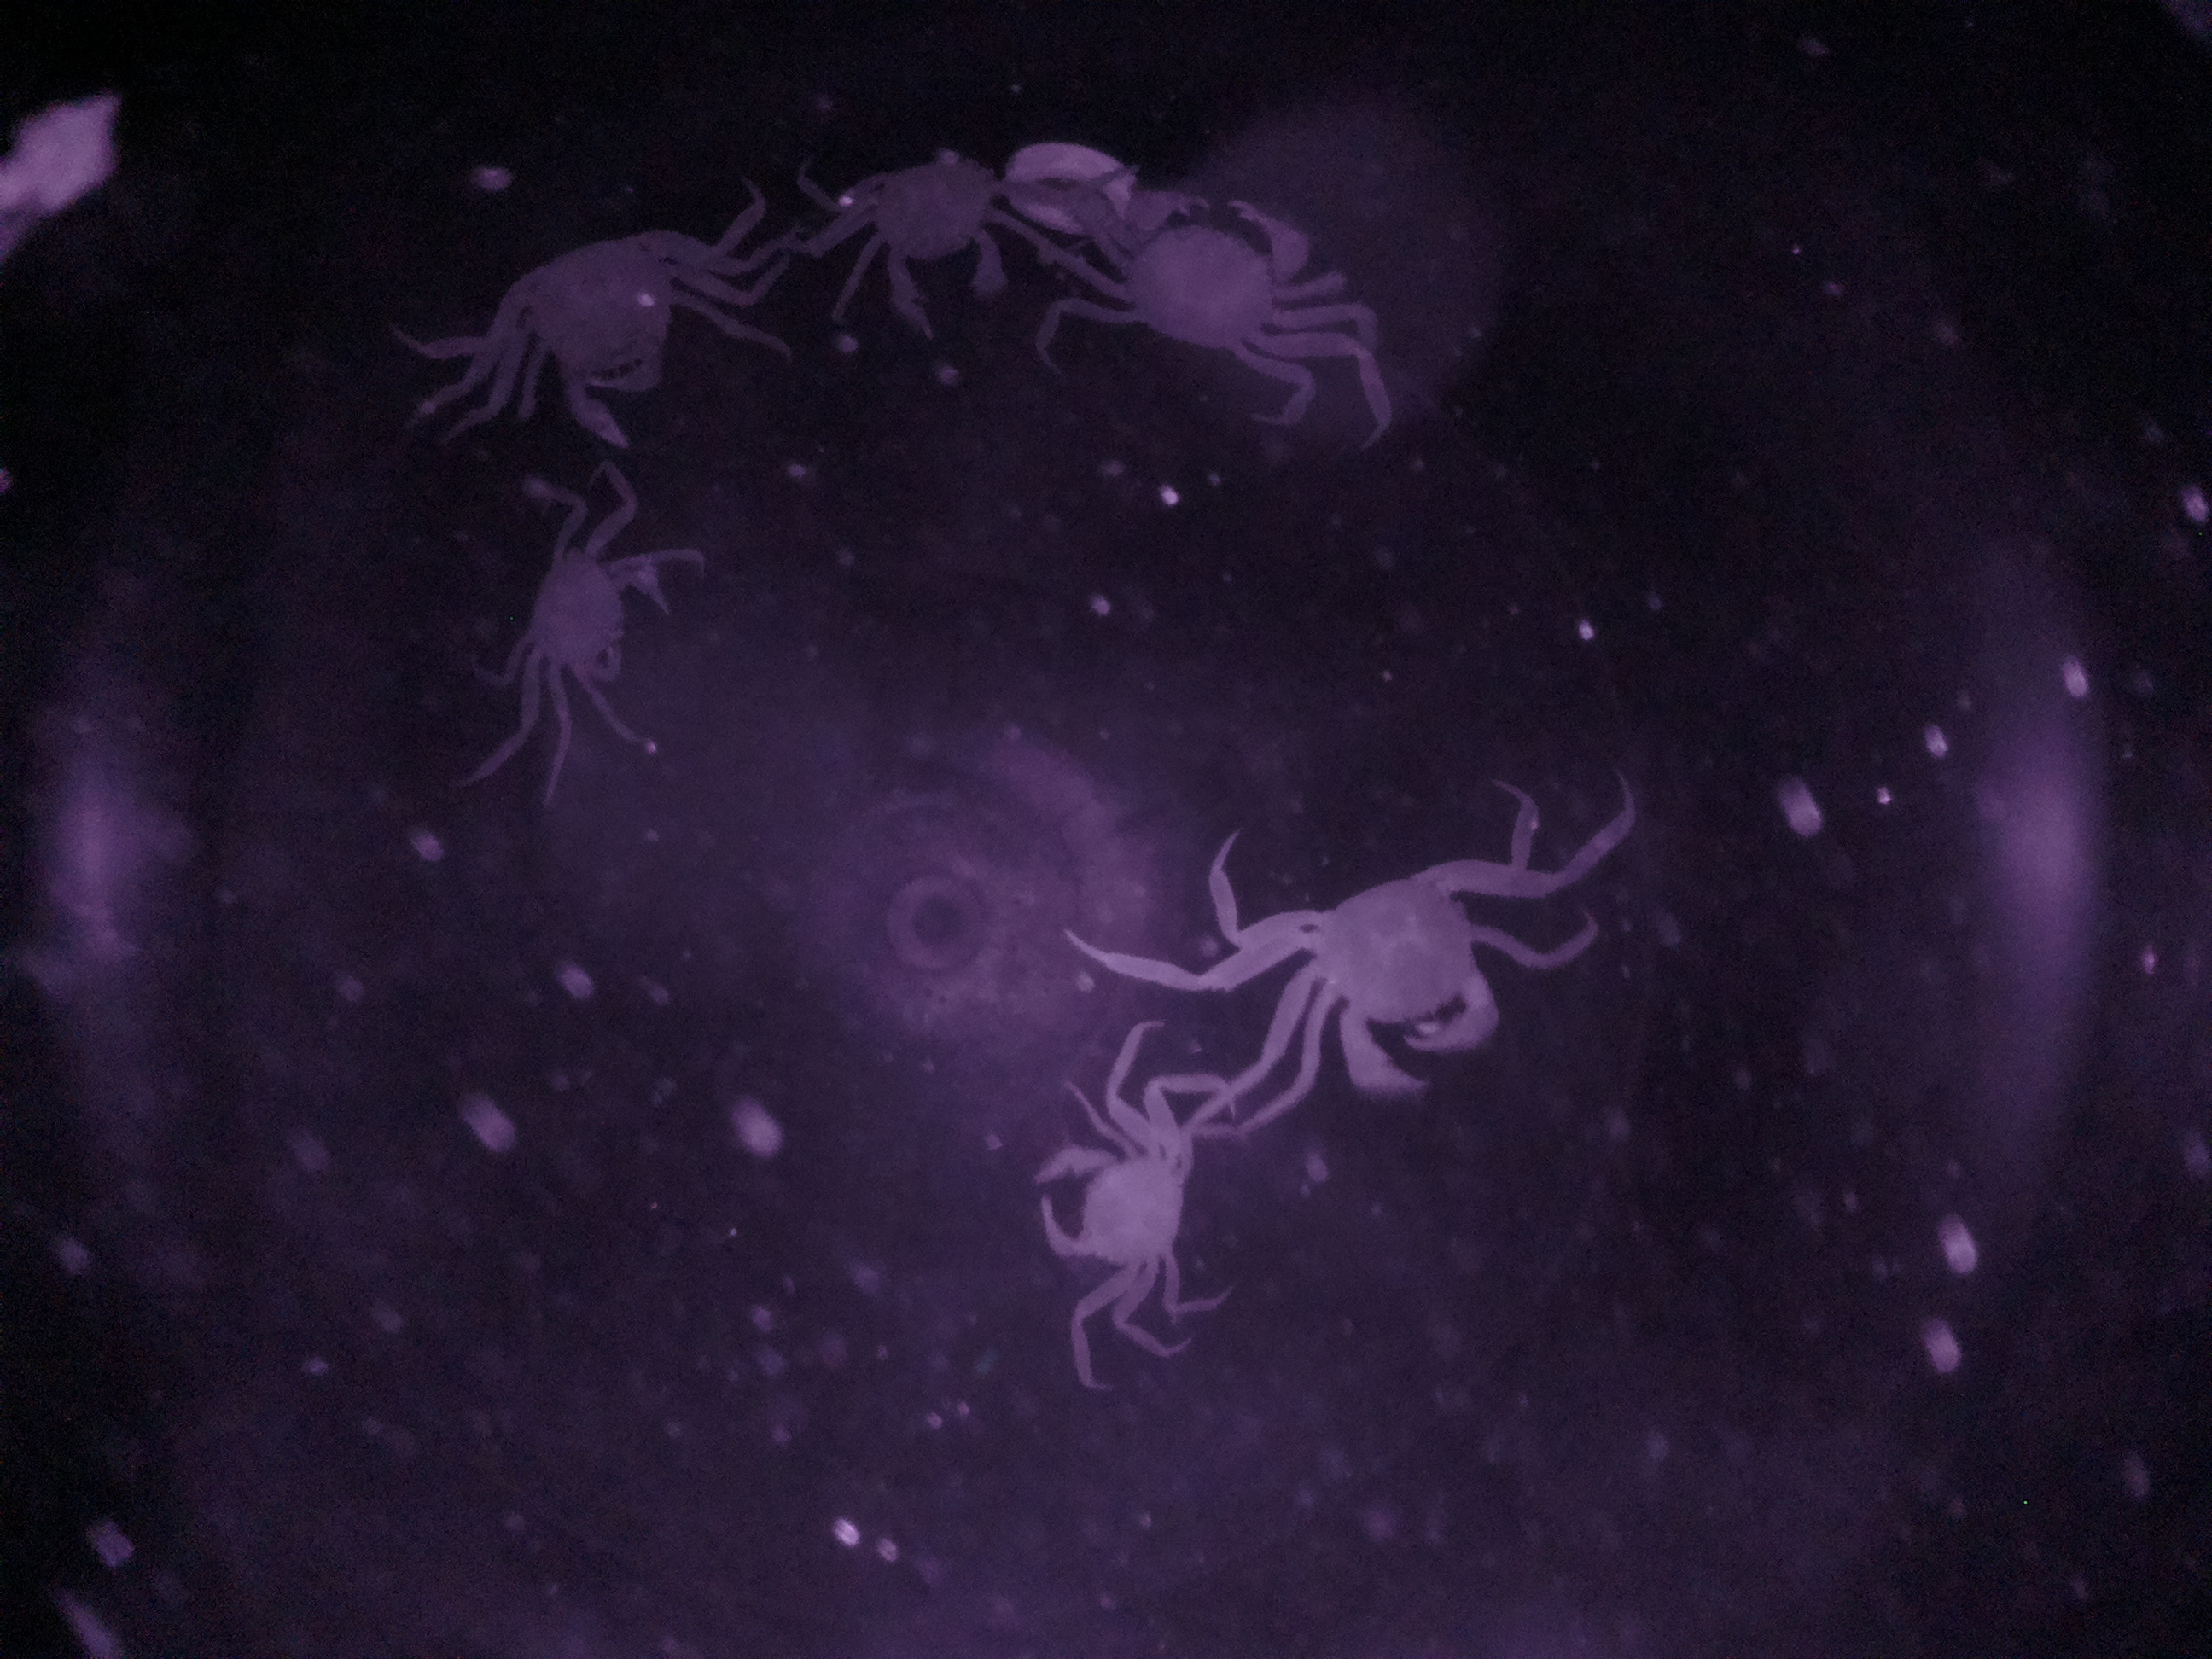Crab: (1193, 816, 1519, 1101), (449, 192, 712, 443), (1078, 174, 1338, 368), (488, 495, 688, 727), (792, 136, 1031, 328), (1019, 1100, 1231, 1310)
